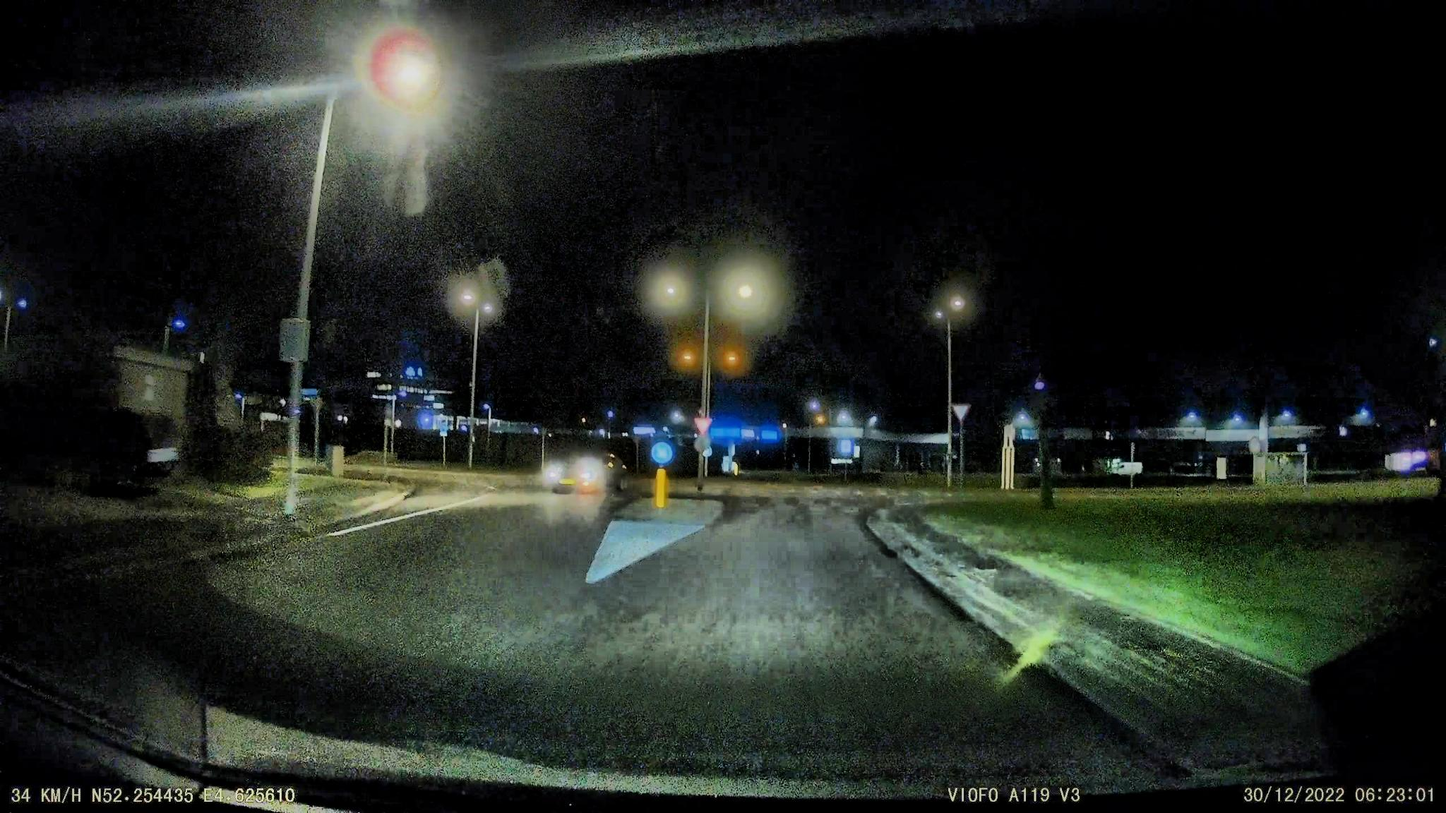Roads: (125, 471, 1170, 801)
